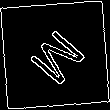M_SE: (21, 21, 89, 89)
